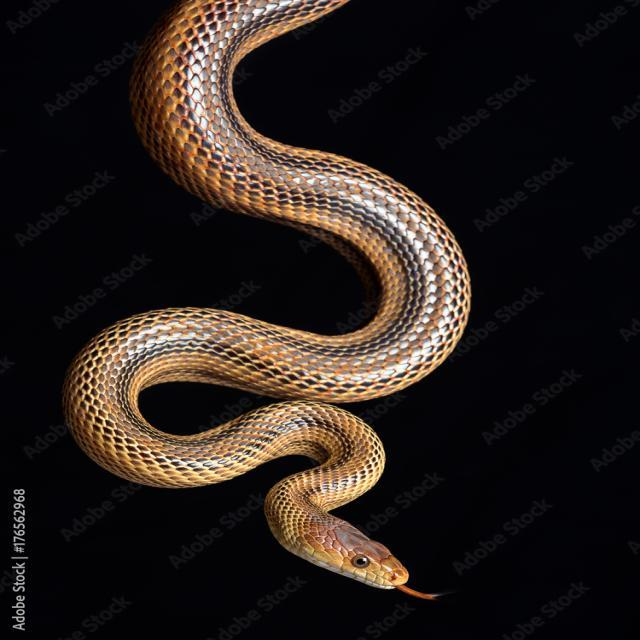Snake: (51, 0, 502, 626)
